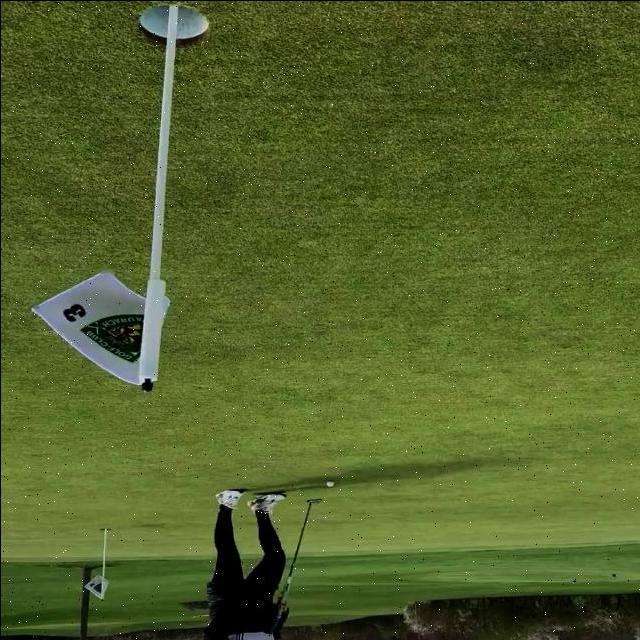ClubHandle: (277, 496, 321, 617)
ClubHead: (306, 496, 321, 503)
GolfBall: (325, 480, 332, 486)
